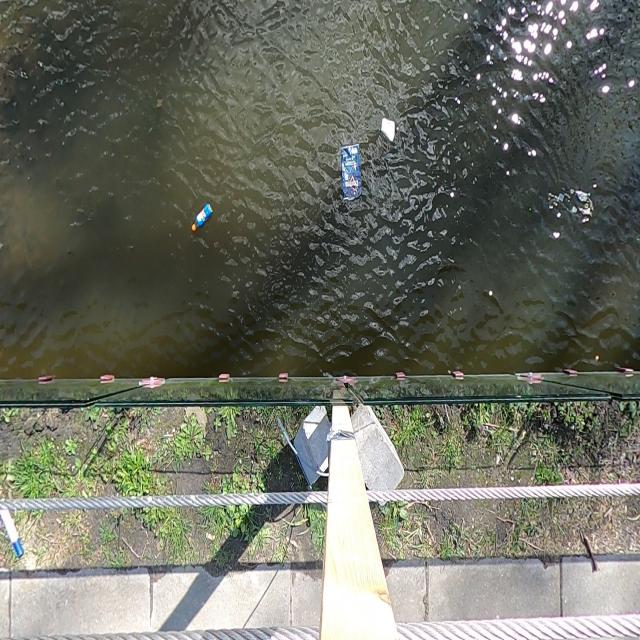Autre plastique: (334, 137, 368, 210)
Bouteille plastique: (190, 200, 214, 238)
Non plastique: (377, 115, 400, 144)
